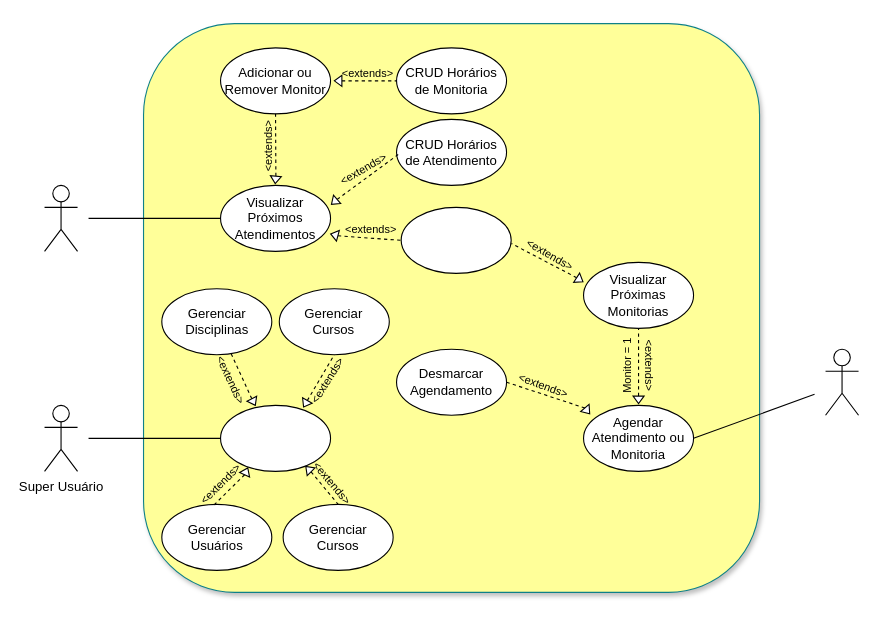
Image size: 887x619. Some labels were removed from this diagram. The centre of each missing label's shape, as x and y in pixels:
"Discente" belongs at point 841,381.
"Docente" belongs at point 60,217.
"Listar Tudo" belongs at point 275,437.
"Visualizar Discentes Agendados" belongs at point 455,239.
